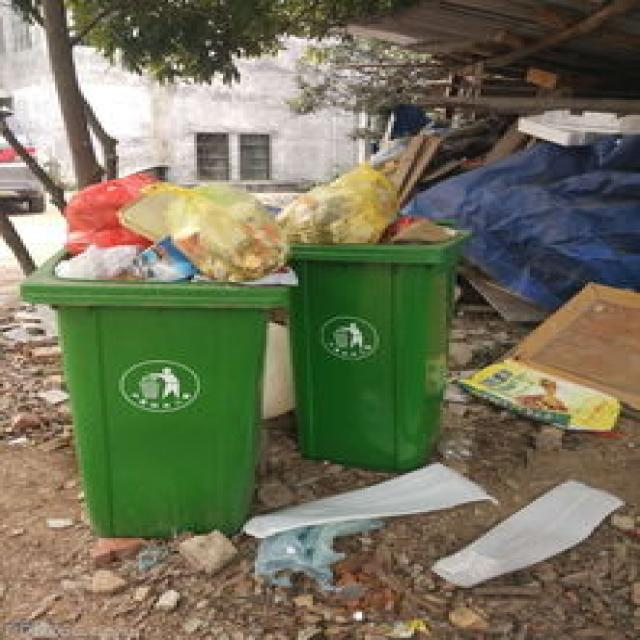garbage: (237, 460, 620, 588), (455, 280, 637, 429)
overflow: (20, 171, 287, 536), (281, 162, 466, 470)
